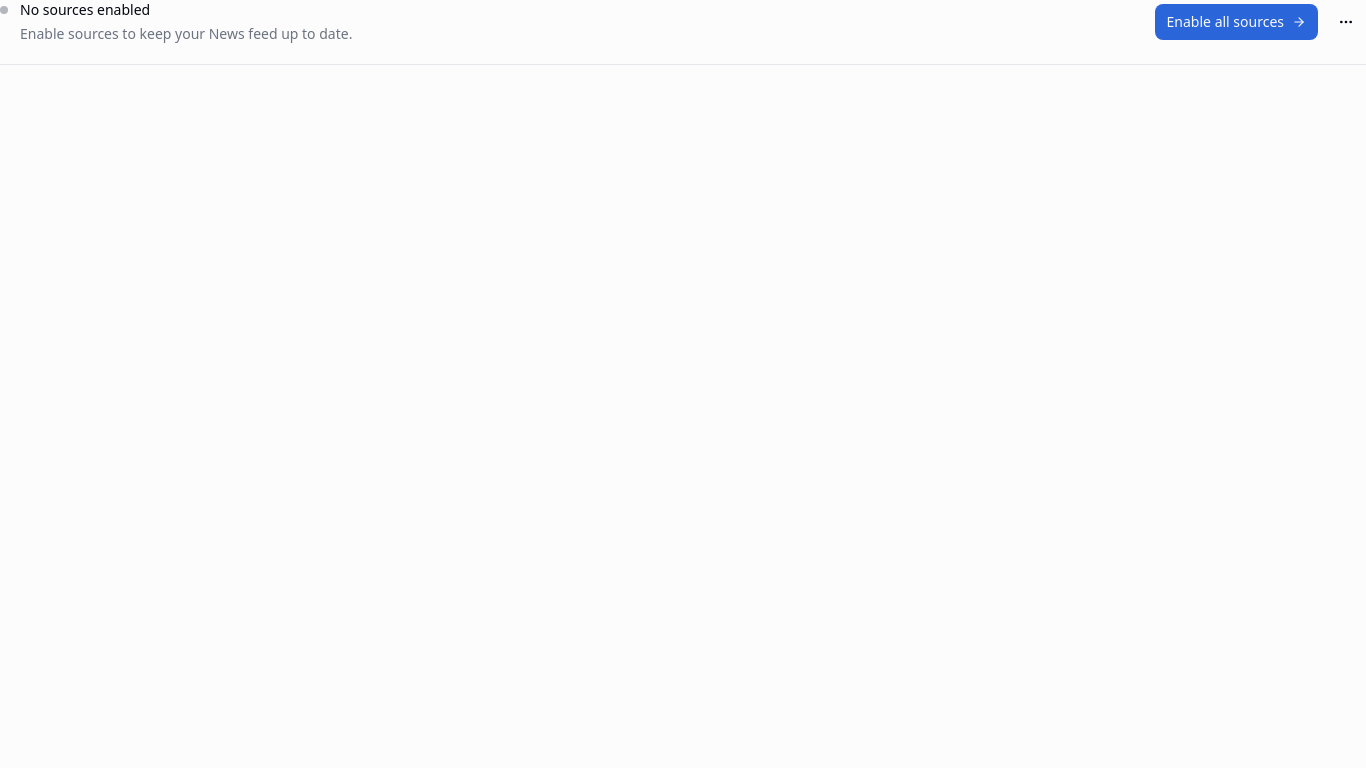
Test: News source actions › offers connection help and a new check when every selected source is blocked
This screenshot has width=1366, height=768.
Later steps or results of the test are not shown.
Click the button "Enable all sources" at (1236, 22), box x1=1155 y1=4 x2=1318 y2=40
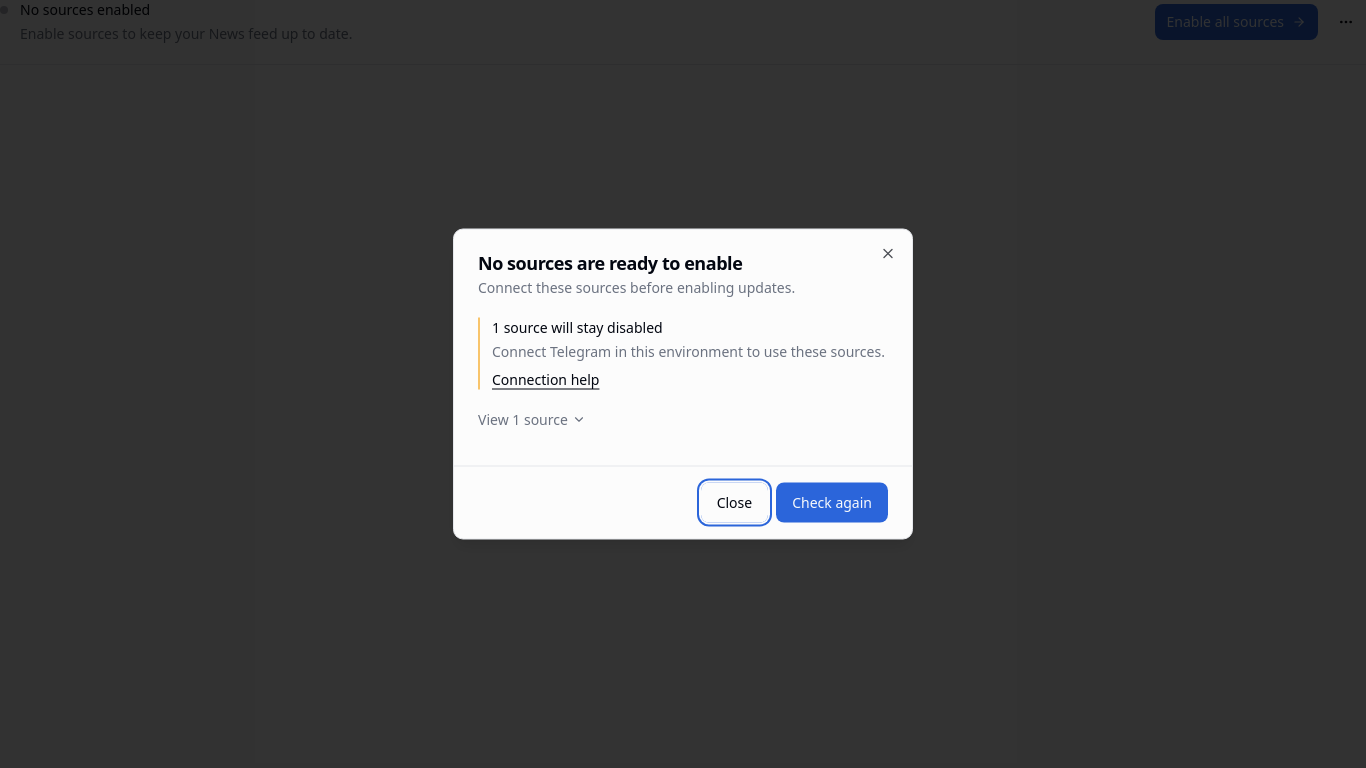
Expected: the heading "No sources are ready to enable" is shown, x1=478 y1=250 x2=742 y2=274
